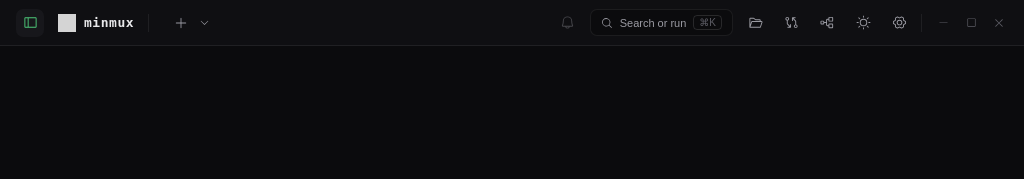
Scenario: TopBar — SSH hosts in the new-tab picker › lists hosts after the shells and opens one in a new tab
Click the button titled "New tab in…".
click(204, 22)  # box [195,8,213,36]
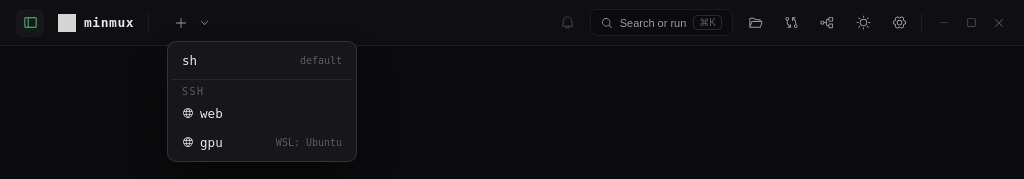
Expected: the text "SSH" is shown, [172,78,352,98]
Expected: the text "WSL: Ubuntu" is shown, [276,136,342,148]
Press the mouse on the text "gpu" at (211, 142), box [200,134,223,150]
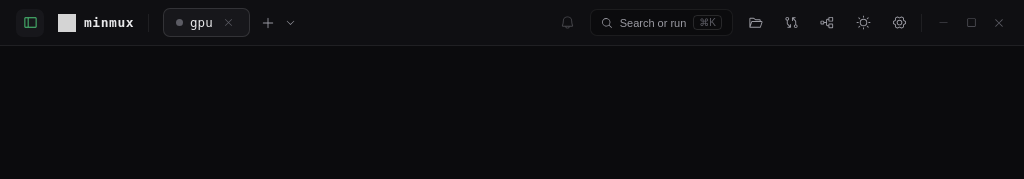
Expected: the text "SSH" is gone
